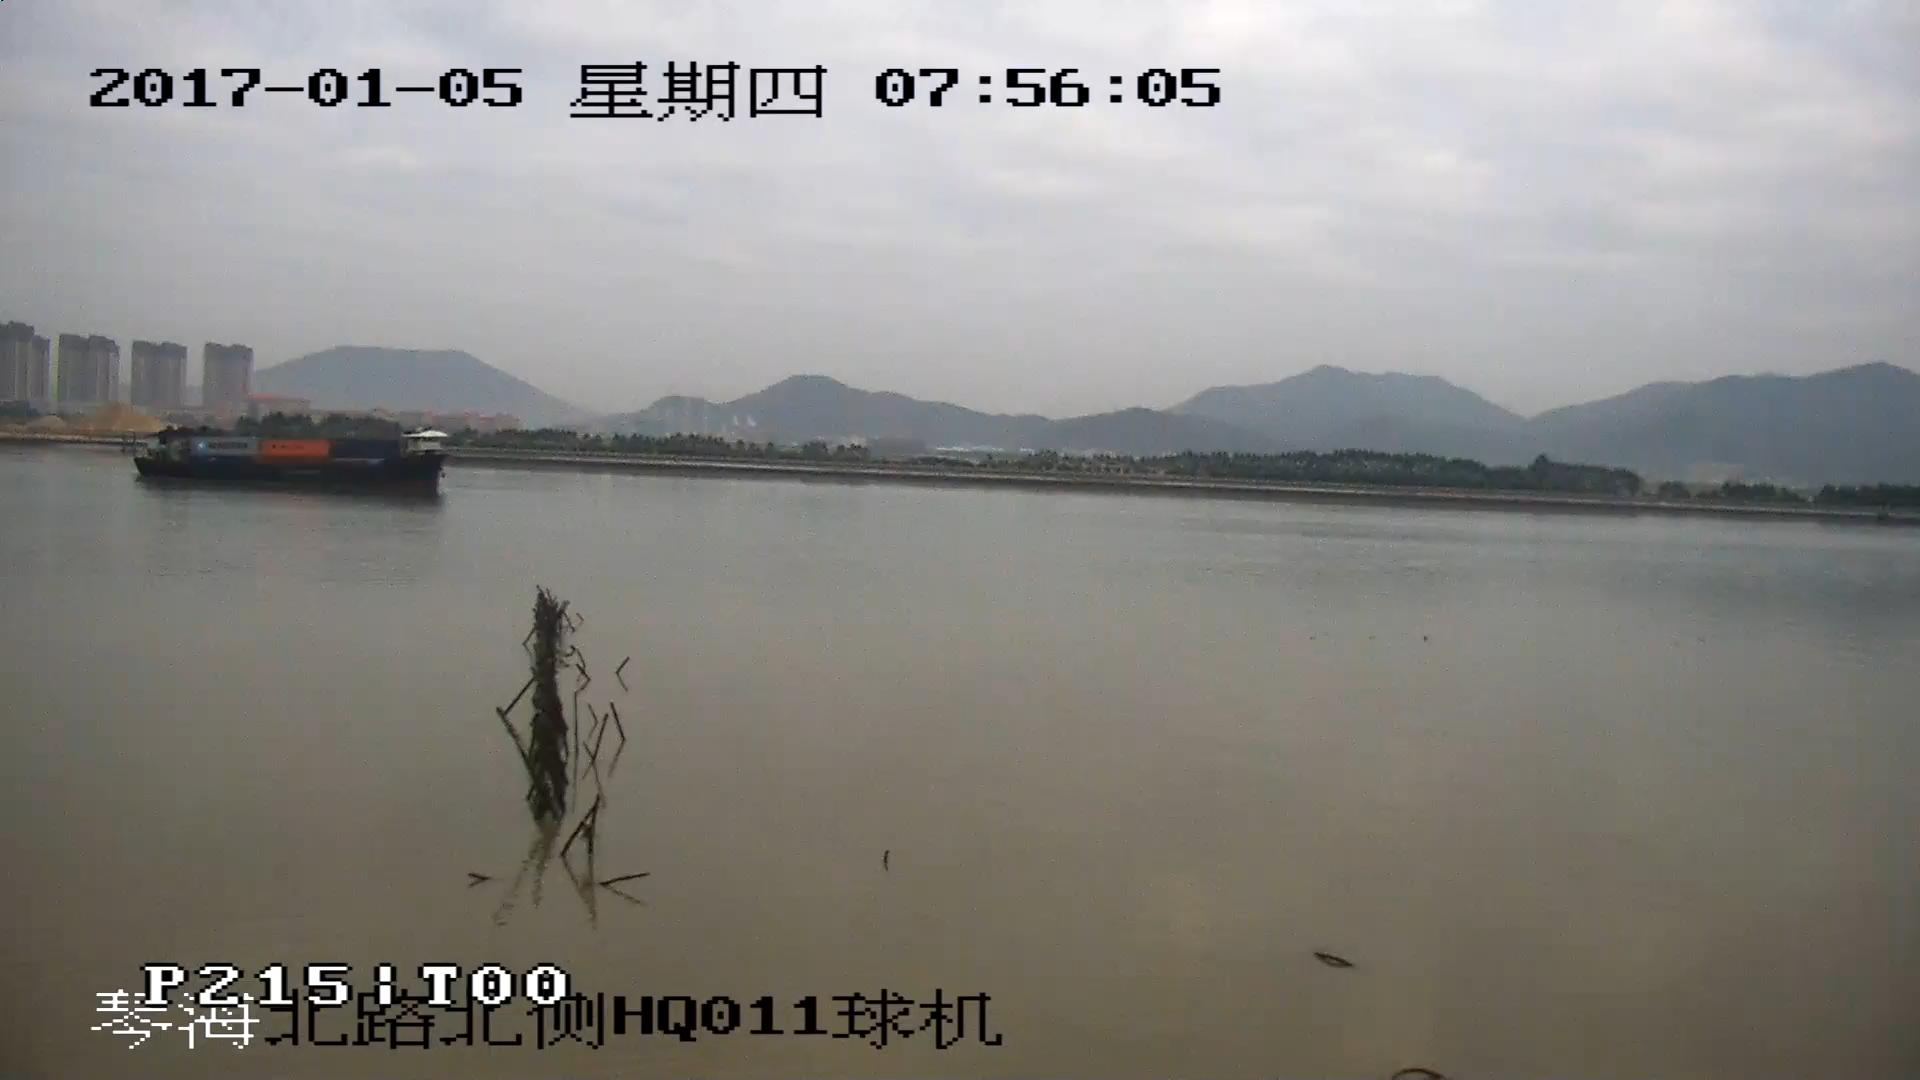container ship: (132, 432, 446, 492)
